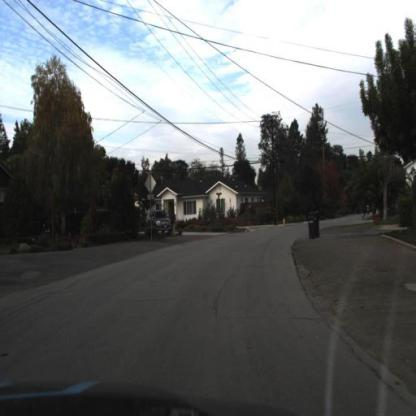car: (150, 211, 172, 235), (174, 219, 186, 240)
